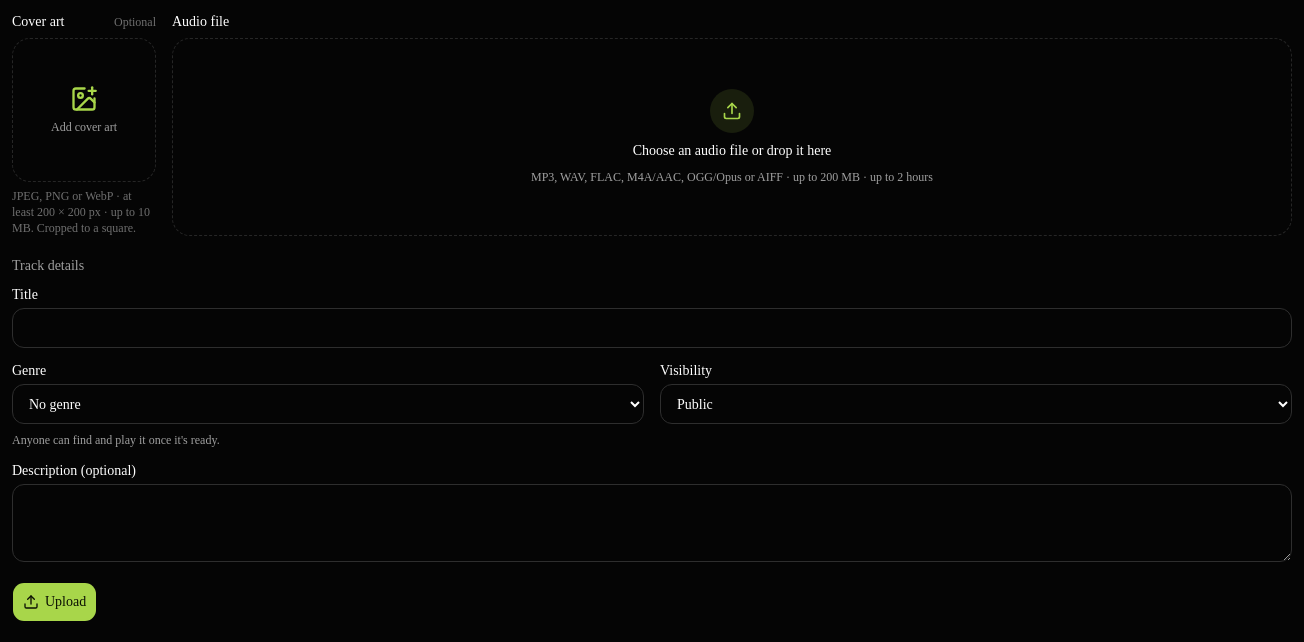
Test: UploadTrackForm › requires an audio file before sending anything
Step 1. Type "No audio" into the field labelled "Title" → {"x": 652, "y": 328}, box top-left (12, 308), bottom-right (1292, 348)
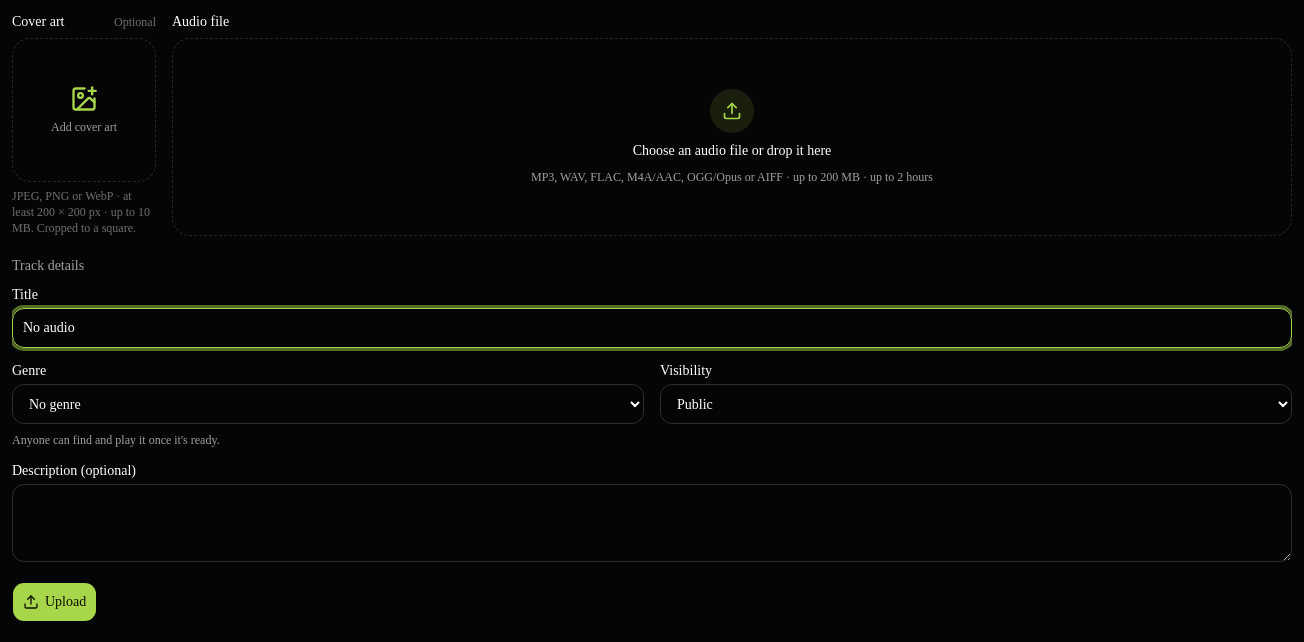
Step 2. Click the button "Upload" → {"x": 55, "y": 602}, box top-left (12, 582), bottom-right (97, 622)
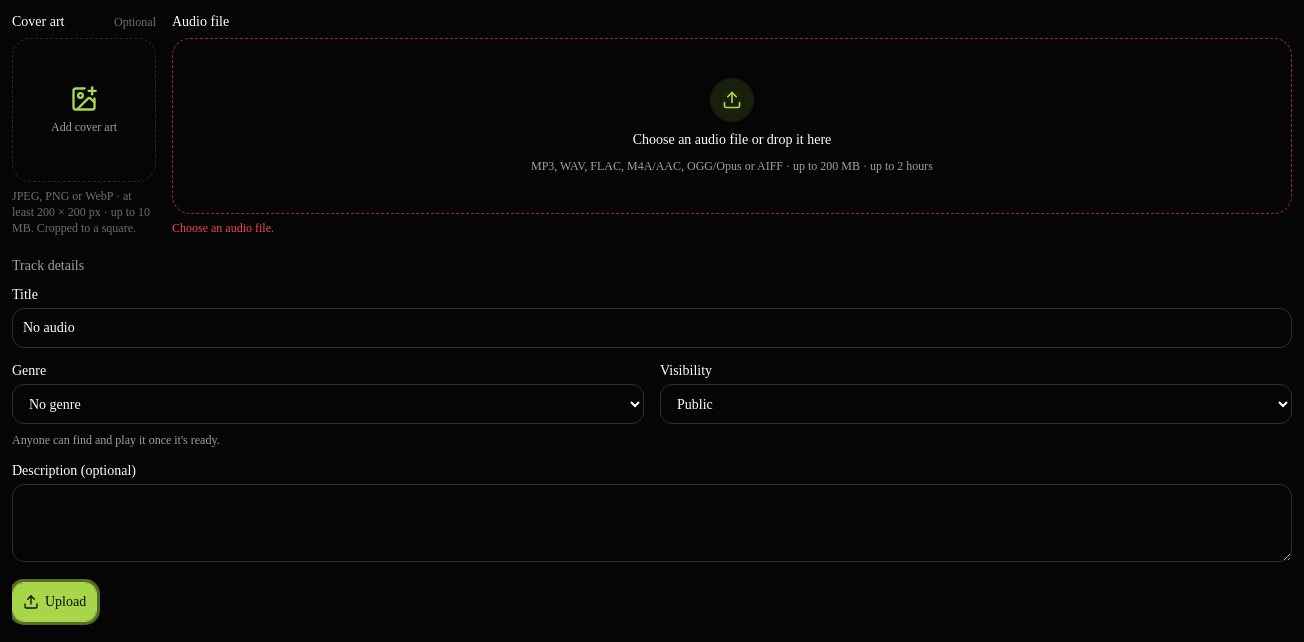
expect the text "Choose an audio file." is shown: met, box top-left (172, 221), bottom-right (274, 235)
